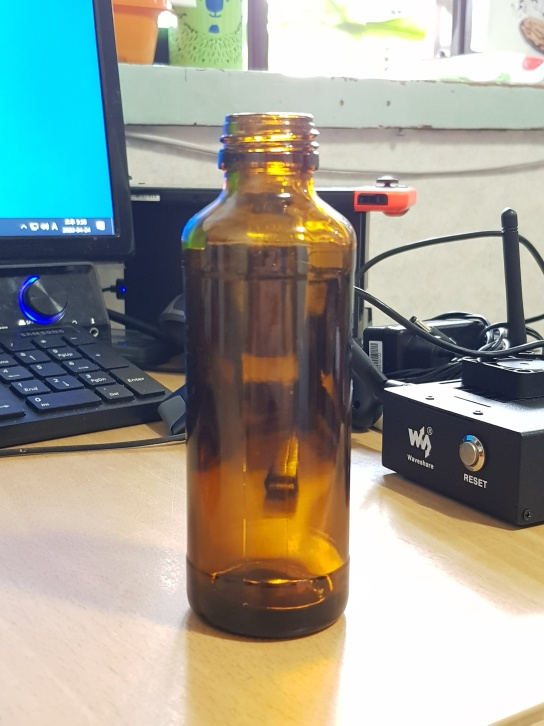Glass: (180, 113, 356, 645)
